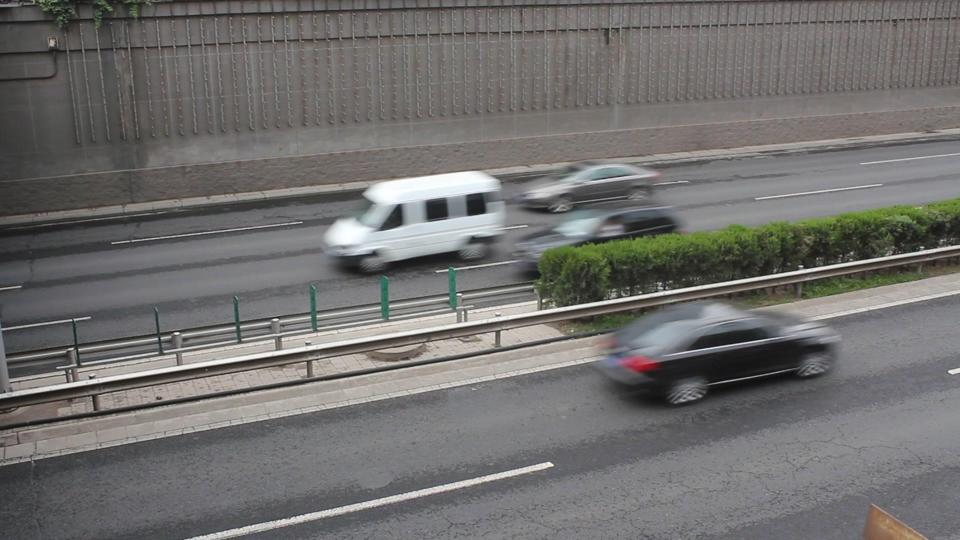car: (591, 301, 844, 406), (510, 202, 692, 266), (507, 164, 663, 214)
truck: (322, 170, 506, 275)
